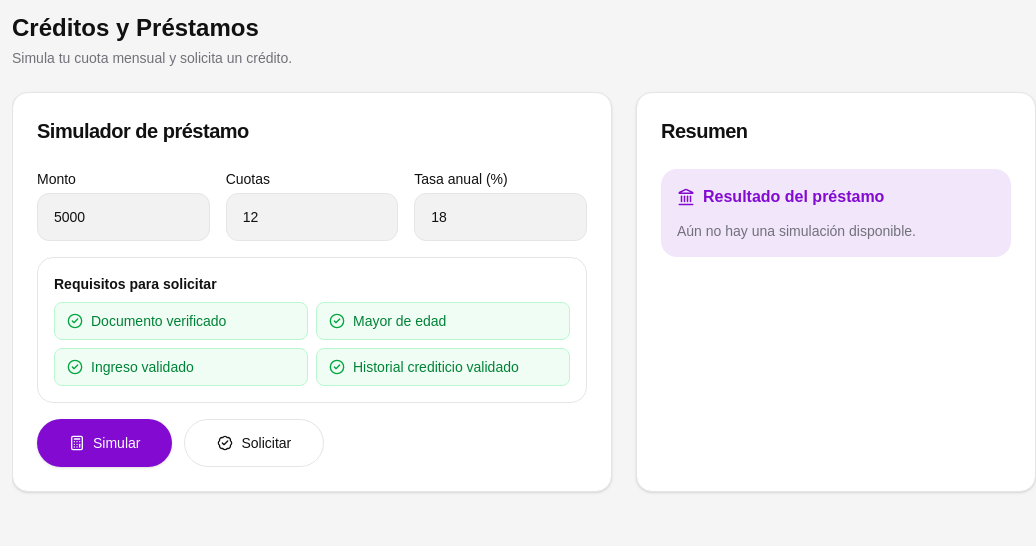
LoansClient › should show reasons for an ineligible application
Click the button "Solicitar" at {"x": 254, "y": 443}, box [184, 419, 324, 467]
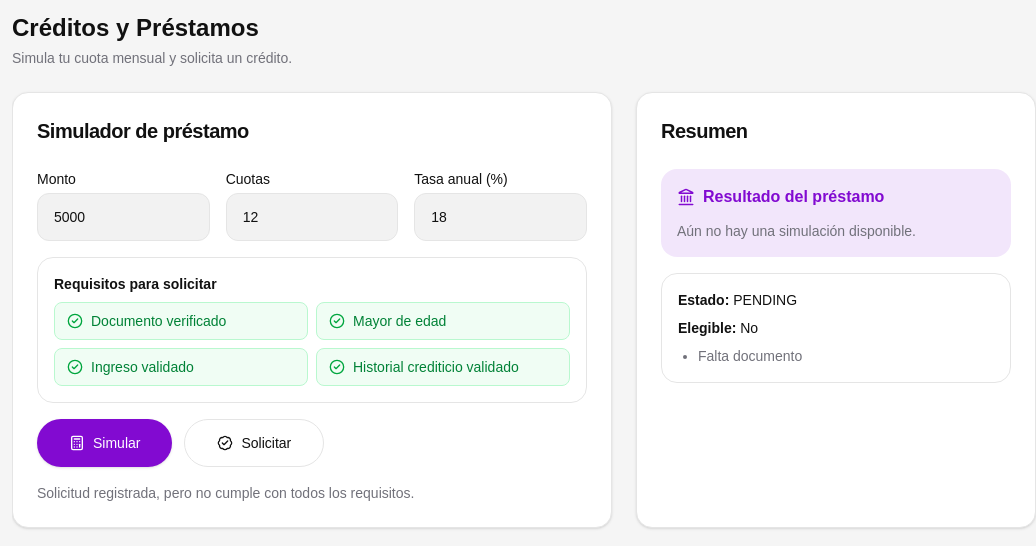
Now the text "Solicitud registrada, pero no cumple con todos los requisitos." is shown, box [37, 485, 414, 501]
Now the list item "Falta documento" is shown, box [698, 348, 802, 364]
Now the text "No" is shown, box [740, 320, 758, 336]
